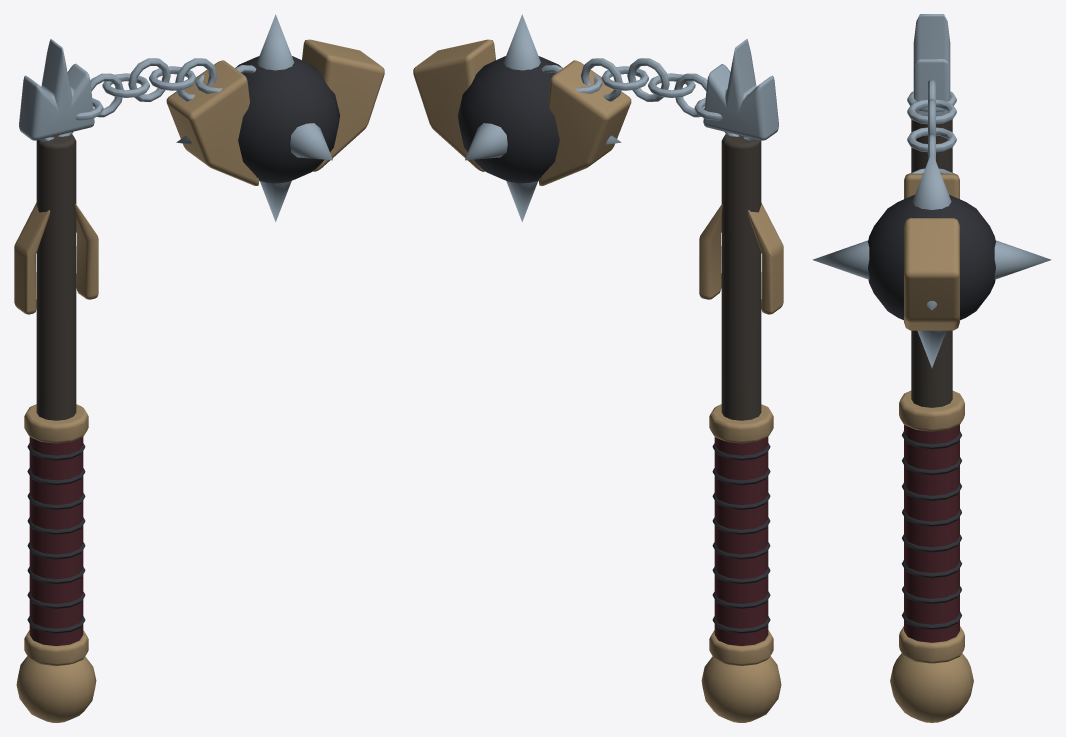
Rendered from penitent-chain.glb.
3 renders of one model, left to right at view 1: azimuth 30°, elevation 25°; view 2: azimuth 150°, elevation 25°; view 3: azimuth 270°, elevation 25°, orthographic. The views are drawn at different scales.
Parts seen in each view (by area): view 1: Flail handle, Leather grip.006, Flail head, Flail crown wing, Pointed reliquary crest.012, Flail crown wing.001, Pommel.006, Open lancet arch.024, Open lancet arch.025, Grip collar.013, Grip collar.012, Flail spike.004 (+6 smaller); view 2: Flail handle, Leather grip.006, Flail head, Flail crown wing, Pointed reliquary crest.012, Flail crown wing.001, Pommel.006, Open lancet arch.024, Open lancet arch.025, Grip collar.013, Grip collar.012, Flail spike.004 (+6 smaller); view 3: Leather grip.006, Flail head, Flail crown wing.001, Pommel.006, Flail handle, Pointed reliquary crest.012, Grip collar.013, Grip collar.012, Flail spike.004, Flail spike.002, Flail spike.003, Flail crown wing (+3 smaller).
Boxes of the visible parts, x1=… form: Flail handle: x1=36, y1=134, x2=76, y2=420; Leather grip.006: x1=29, y1=437, x2=83, y2=645; Flail head: x1=235, y1=56, x2=340, y2=183; Flail crown wing: x1=166, y1=60, x2=259, y2=185; Pointed reliquary crest.012: x1=19, y1=39, x2=94, y2=140; Flail crown wing.001: x1=302, y1=39, x2=384, y2=171; Pommel.006: x1=16, y1=656, x2=96, y2=722; Open lancet arch.024: x1=14, y1=202, x2=50, y2=314; Open lancet arch.025: x1=75, y1=204, x2=98, y2=299; Grip collar.013: x1=24, y1=404, x2=88, y2=443; Grip collar.012: x1=24, y1=630, x2=88, y2=665; Flail spike.004: x1=257, y1=14, x2=294, y2=70; Flail handle: x1=721, y1=134, x2=761, y2=420; Leather grip.006: x1=714, y1=437, x2=768, y2=645; Flail head: x1=457, y1=56, x2=562, y2=183; Flail crown wing: x1=538, y1=60, x2=631, y2=185; Pointed reliquary crest.012: x1=703, y1=39, x2=778, y2=140; Flail crown wing.001: x1=413, y1=39, x2=495, y2=171; Pommel.006: x1=701, y1=656, x2=781, y2=722; Open lancet arch.024: x1=747, y1=202, x2=783, y2=314; Open lancet arch.025: x1=699, y1=204, x2=722, y2=299; Grip collar.013: x1=709, y1=404, x2=773, y2=443; Grip collar.012: x1=709, y1=630, x2=773, y2=665; Flail spike.004: x1=503, y1=14, x2=540, y2=70; Leather grip.006: x1=904, y1=425, x2=959, y2=642; Flail head: x1=868, y1=195, x2=995, y2=320; Flail crown wing.001: x1=904, y1=218, x2=959, y2=330; Pommel.006: x1=890, y1=653, x2=973, y2=722; Flail handle: x1=911, y1=119, x2=952, y2=407; Pointed reliquary crest.012: x1=913, y1=14, x2=950, y2=115; Grip collar.013: x1=899, y1=391, x2=964, y2=431; Grip collar.012: x1=899, y1=626, x2=964, y2=663; Flail spike.004: x1=912, y1=152, x2=951, y2=209; Flail spike.002: x1=994, y1=240, x2=1051, y2=279; Flail spike.003: x1=812, y1=240, x2=869, y2=279; Flail crown wing: x1=904, y1=173, x2=959, y2=198.
Size of the model in its own units: 0.535 by 0.9729 by 0.3.
